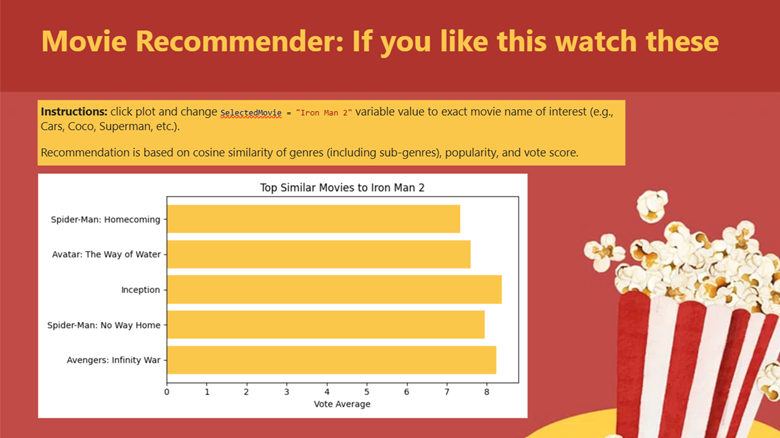

This screenshot's page, from the dashboard's own definition file:
{"tool":"powerbi","page":{"name":"Recommender","canvas":[1280,720],"ordinal":3},"visuals":[{"type":"pythonVisual","fields":{"Values":["df.Action","df.Adventure","df.Animation","df.Comedy","df.Crime","df.Documentary","df.Drama","df.Family","df.Fantasy","df.History","df.Horror","df.Music"]},"box":[33.8,258.2,859,451.2],"z":0},{"type":"textbox","box":[62.9,27.1,1191.4,84.3],"z":1000},{"type":"textbox","box":[63.1,163.3,960.6,107],"z":2000}]}

Visuals, with their boxes in screenshot pixels (x1, y1, x2, y2), scaled from the page's 1280x720 canvas onto the 780x438 screenshot:
pythonVisual - df.Action x df.Adventure: <region>21, 157, 544, 432</region>
textbox: <region>38, 16, 764, 68</region>
textbox: <region>38, 99, 624, 164</region>
